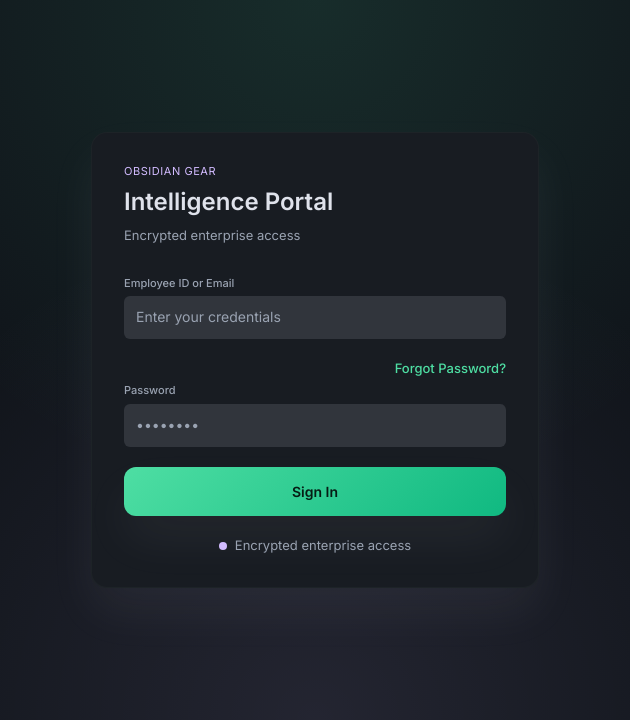
Test case: LoginPage › bloqueia submit vazio e exibe erros de validação
The image size is (630, 720).
Step 1. Click the button "Sign In" → (315, 491), box [124, 467, 506, 516]
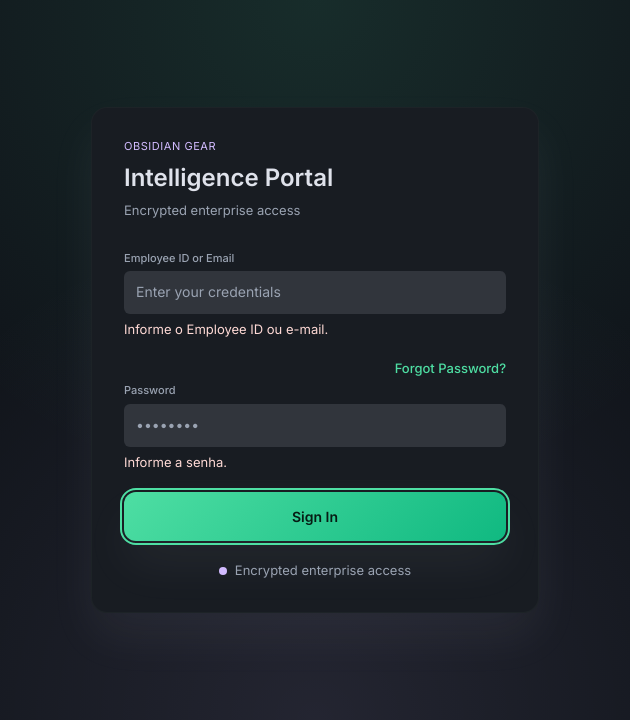
Check: the text "Informe o Employee ID ou e-mail." is shown, box [124, 321, 328, 337]
Check: the text "Informe a senha." is shown, box [124, 454, 227, 470]
